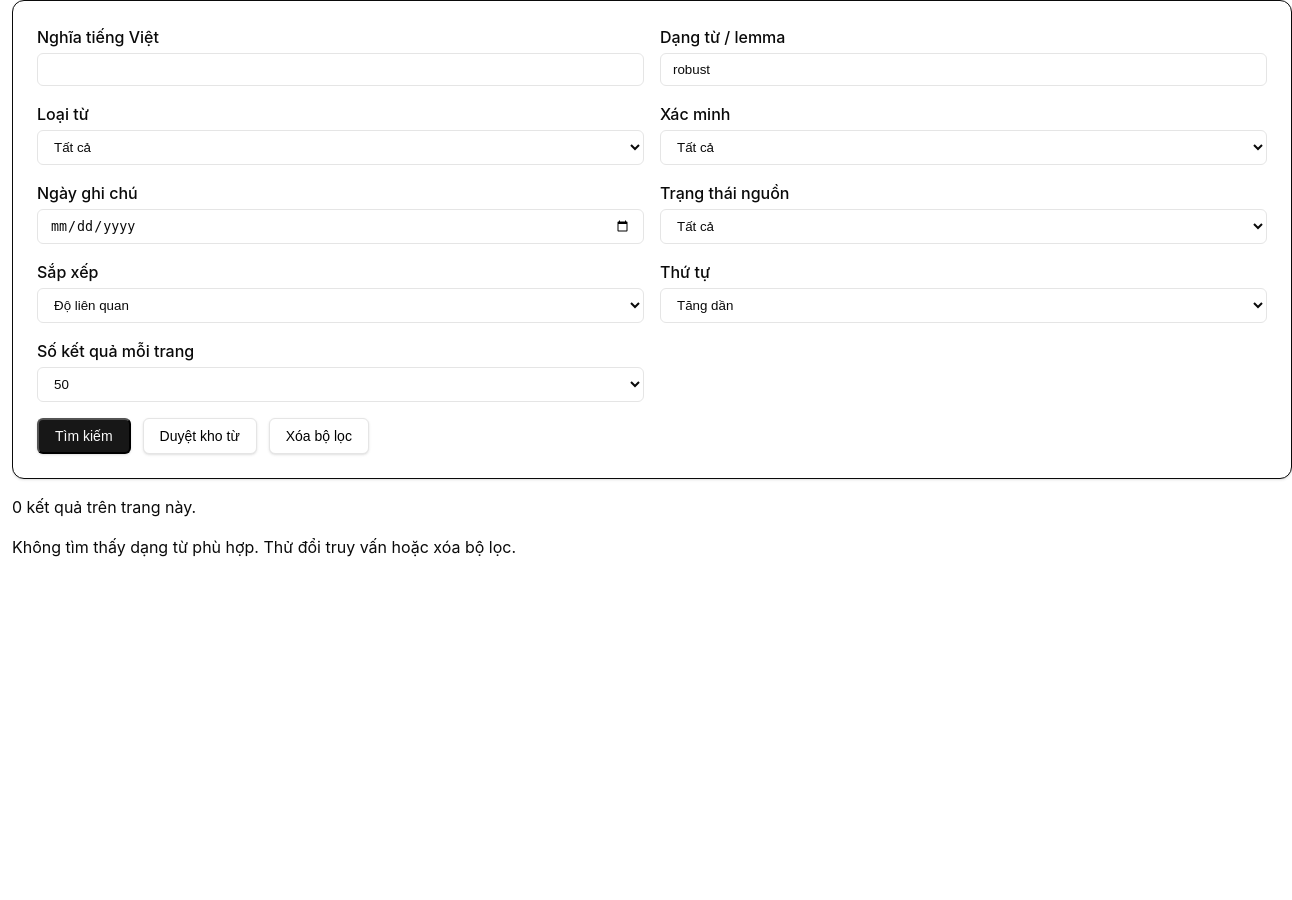
T028 local search › distinguishes an empty match from a stopped local API and preserves intent on retry
Click the button "Tìm kiếm": (84, 436) top-left (37, 418), bottom-right (131, 454)
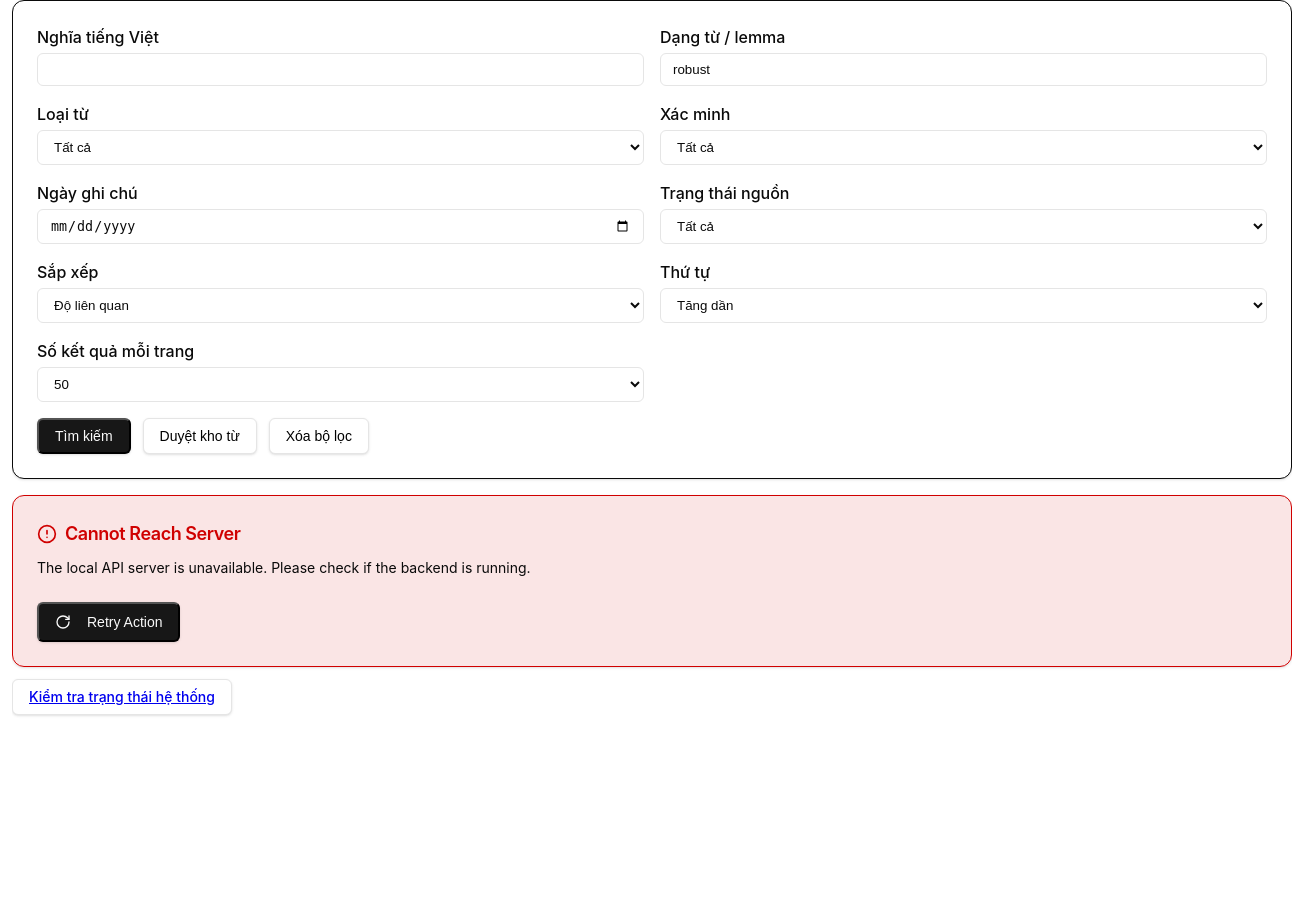
Check: the text "Cannot Reach Server" is shown, box top-left (37, 523), bottom-right (240, 544)
Check: the text "Không tìm thấy" is gone
Click the button "Retry Action": (109, 622) top-left (37, 602), bottom-right (180, 642)
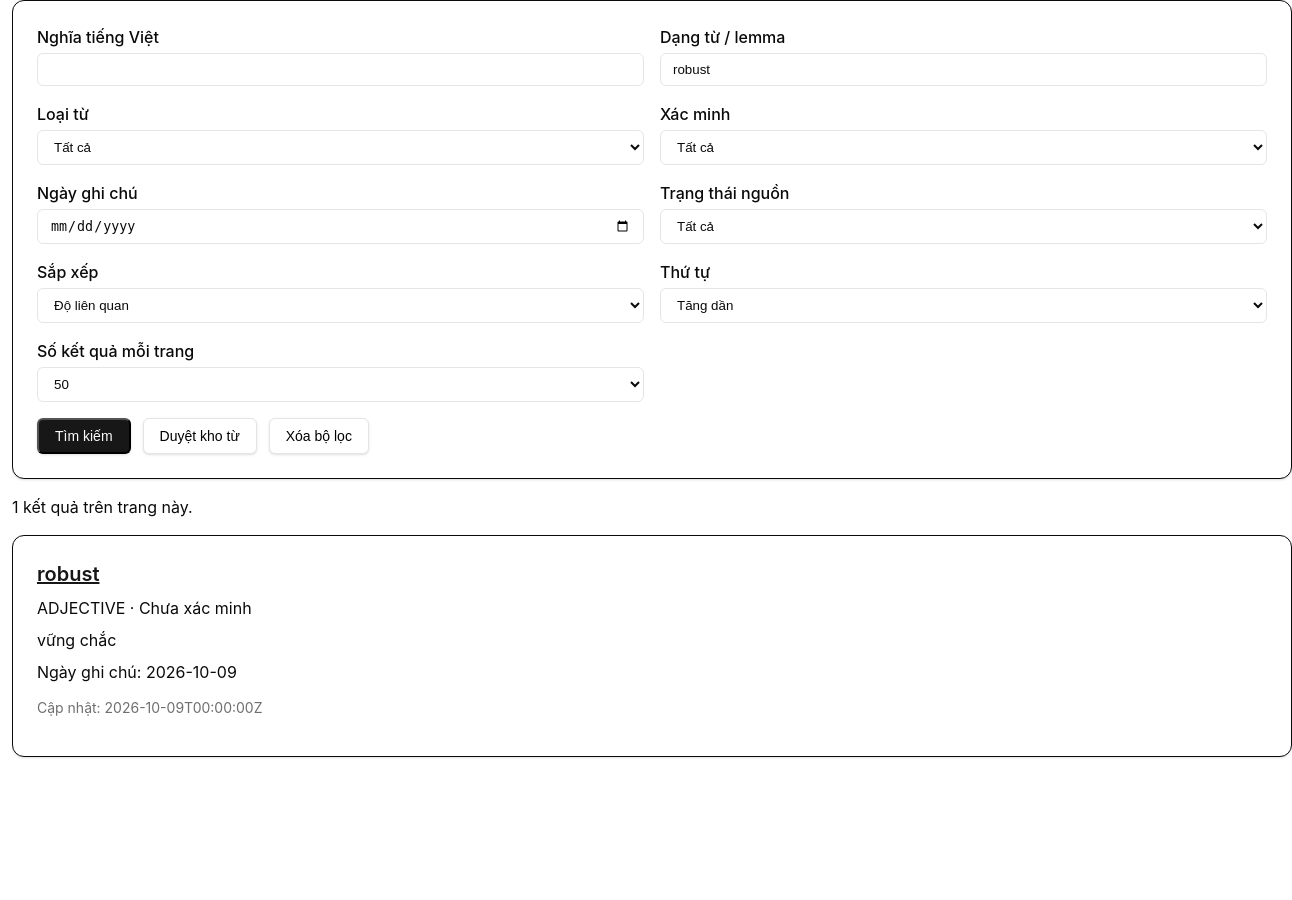
Check: the text "robust" is shown, box top-left (37, 562), bottom-right (100, 586)
